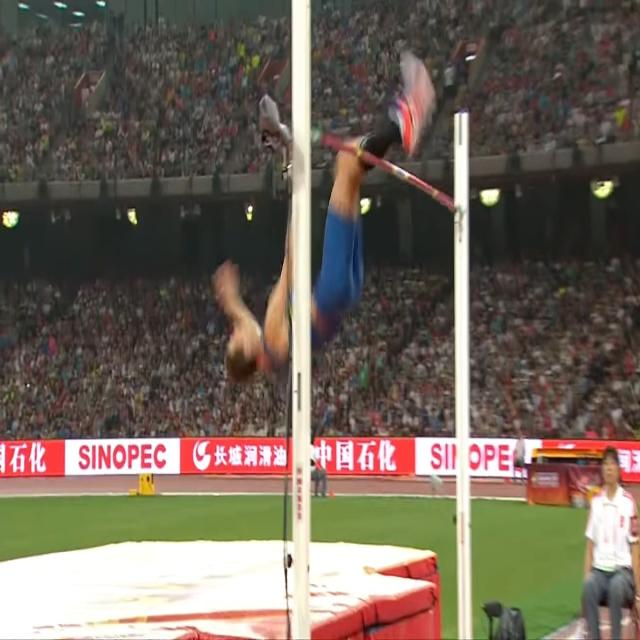land: (220, 65, 432, 379)
